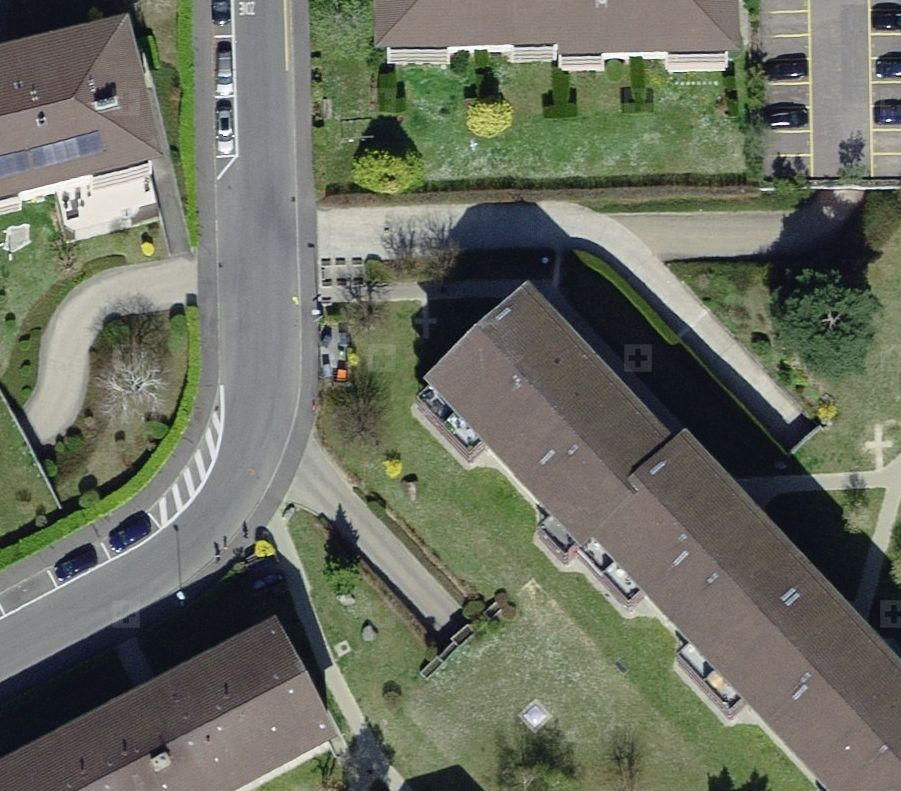solar: (1, 124, 111, 189)
